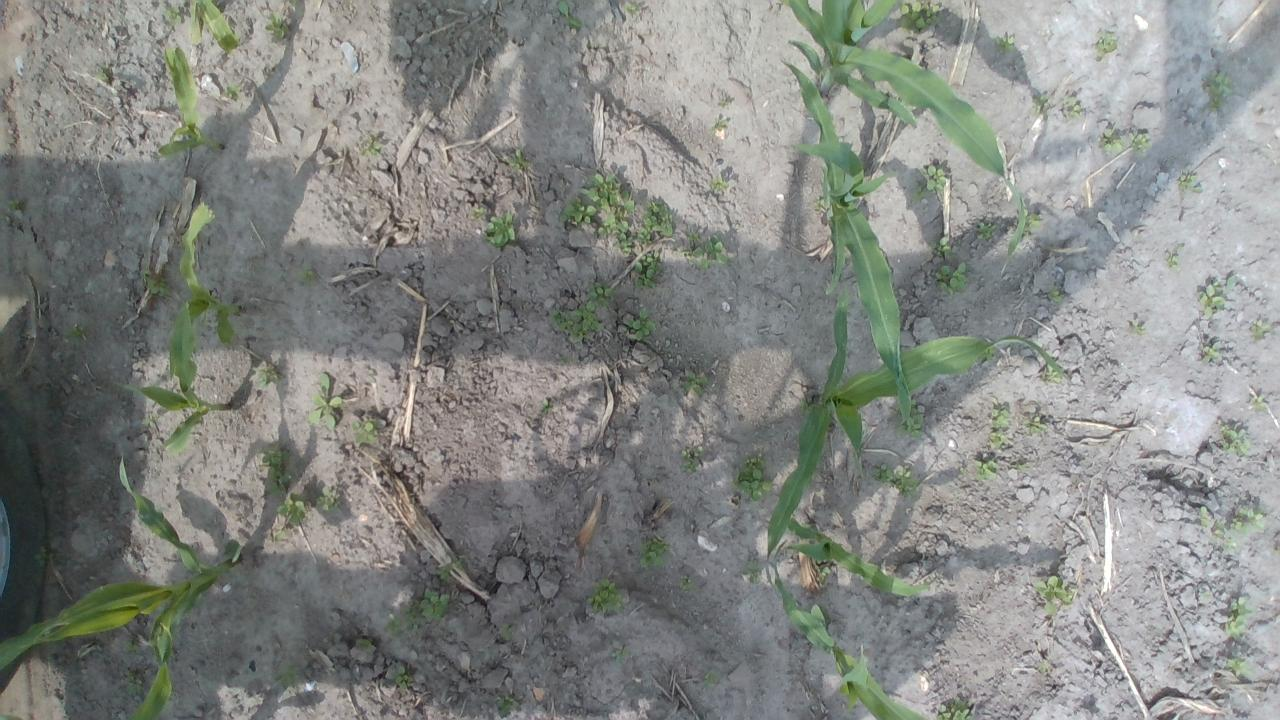Maize: (764, 284, 1070, 592), (773, 0, 1029, 275), (0, 461, 242, 720), (778, 54, 914, 427), (771, 561, 931, 720), (113, 299, 229, 456), (781, 512, 940, 600), (177, 200, 240, 346), (157, 43, 226, 158), (188, 0, 242, 52)
Weeds: (560, 173, 634, 255), (548, 282, 618, 342), (1212, 506, 1265, 556), (304, 372, 344, 432), (730, 453, 772, 503), (634, 197, 674, 248), (404, 589, 449, 634), (680, 229, 728, 270), (260, 444, 294, 497), (873, 462, 919, 500), (897, 0, 942, 38), (1034, 574, 1074, 614), (632, 250, 668, 292), (586, 578, 628, 614), (1216, 418, 1252, 458), (890, 398, 924, 439), (1194, 278, 1226, 318), (1224, 595, 1253, 639), (484, 211, 518, 248), (1206, 70, 1234, 114), (638, 536, 673, 570), (624, 307, 658, 341), (934, 262, 968, 293), (934, 695, 976, 720), (278, 490, 306, 526), (140, 268, 172, 298), (315, 485, 344, 516), (680, 369, 711, 397), (350, 417, 382, 444), (1093, 29, 1117, 63), (437, 556, 466, 584), (253, 364, 284, 389), (266, 11, 290, 41), (62, 322, 92, 346), (921, 165, 947, 192), (1100, 128, 1127, 154), (1226, 656, 1256, 679), (1177, 172, 1203, 198), (679, 446, 704, 473), (1161, 243, 1184, 272), (558, 1, 581, 30), (990, 395, 1010, 427), (1060, 95, 1082, 124), (507, 148, 533, 172), (274, 666, 300, 690), (1128, 132, 1152, 158), (358, 134, 383, 158), (1022, 413, 1047, 435), (392, 666, 413, 692), (1248, 319, 1274, 340), (124, 668, 143, 696), (298, 262, 320, 286), (497, 694, 521, 716), (741, 561, 763, 585), (929, 235, 953, 257), (382, 612, 402, 638), (974, 459, 998, 480), (976, 221, 1000, 242), (1030, 94, 1052, 116), (911, 181, 932, 204), (708, 173, 730, 194), (1041, 363, 1062, 385), (163, 3, 183, 25), (1201, 341, 1221, 363), (1023, 209, 1043, 231), (702, 668, 720, 688), (989, 428, 1007, 448), (994, 35, 1014, 53), (678, 574, 697, 592), (94, 61, 110, 82), (815, 564, 830, 586), (1046, 283, 1063, 302), (222, 85, 242, 101), (979, 346, 999, 362), (610, 645, 627, 663), (1250, 393, 1268, 410), (499, 622, 514, 642), (1199, 505, 1212, 527), (124, 639, 141, 655), (356, 638, 375, 652), (1130, 320, 1146, 336), (709, 118, 729, 130), (798, 397, 812, 414), (466, 205, 484, 218), (141, 414, 160, 426), (539, 397, 552, 414), (7, 196, 22, 210), (1226, 275, 1237, 293), (812, 197, 825, 210), (624, 2, 638, 13), (326, 633, 341, 643), (274, 530, 286, 542), (1038, 662, 1050, 674), (718, 98, 731, 106), (959, 466, 968, 476), (286, 0, 298, 6), (1016, 463, 1025, 470)
